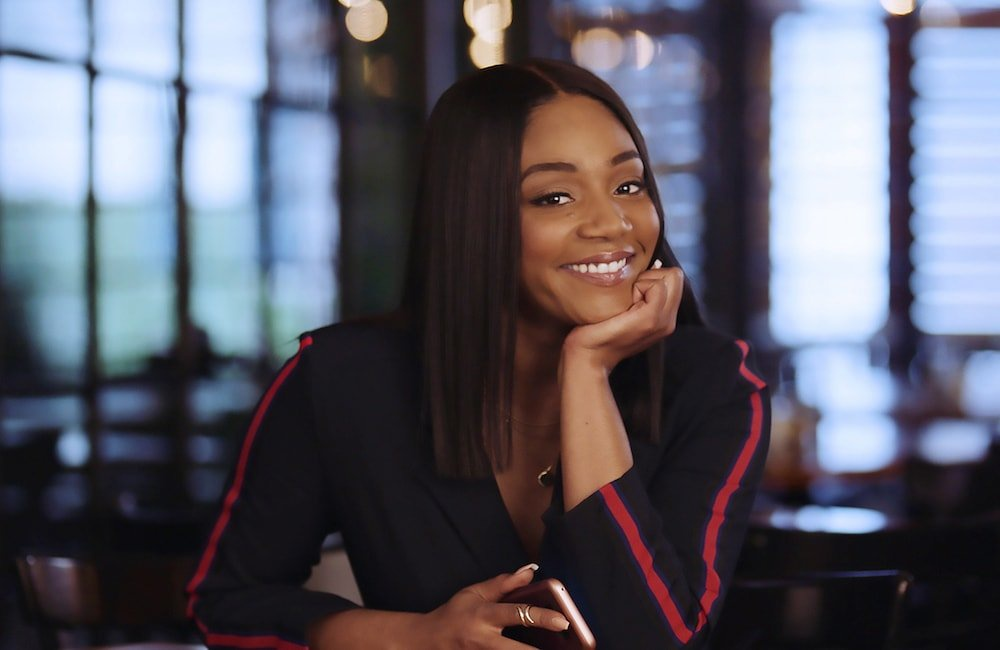bad: (511, 150, 666, 305)
